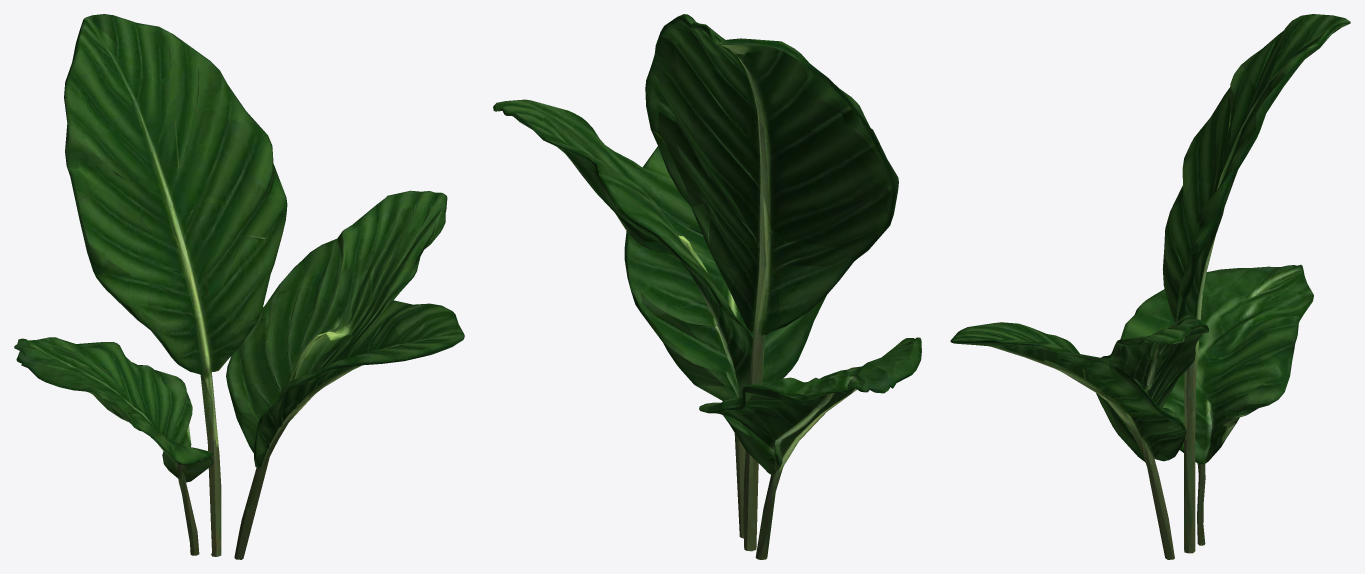
The model's file is scene_monstera.glb.
3 views of the same model, side by side, from view 1: azimuth 30°, elevation 25°; view 2: azimuth 150°, elevation 25°; view 3: azimuth 270°, elevation 25° (orthographic). The views are drawn at different scales.
Bounding box in the file's own units: 1.52 × 1.9 × 1.36.
Materials: 1 (1 with a texture image).
